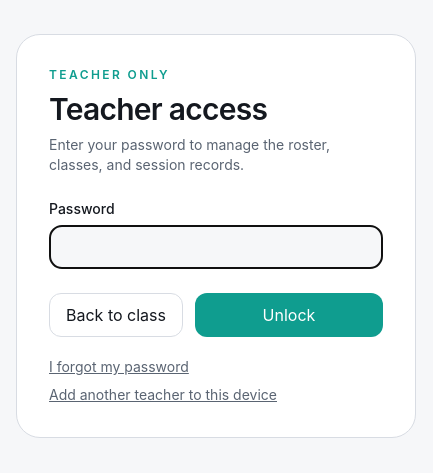
it: teacher gate › rejects a wrong password and stays locked
Type "guess" into the password field labelled "Password" at [216, 247], box x1=49 y1=225 x2=383 y2=269
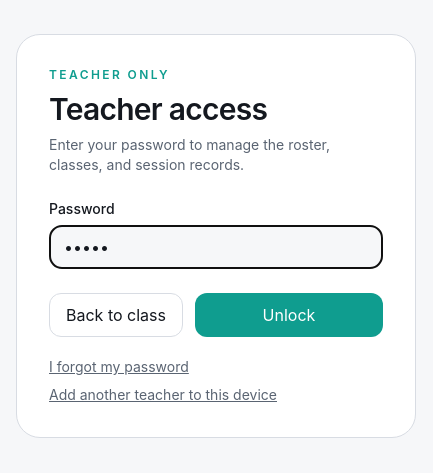
Click the button "Unlock" at [289, 315], box x1=195 y1=293 x2=383 y2=337
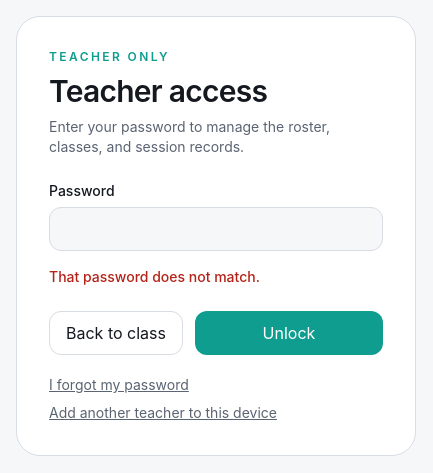
Now the message shows "does not match", box x1=49 y1=268 x2=260 y2=285
